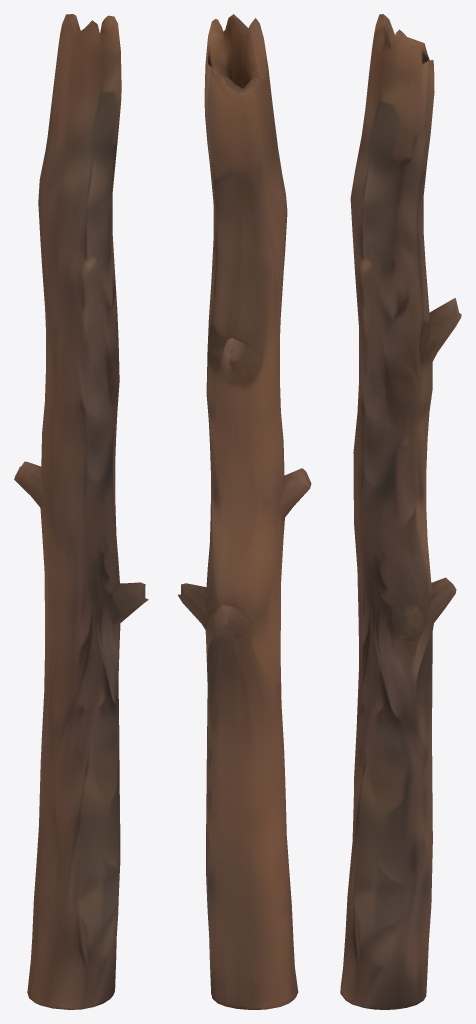
Rendered from base_basic_shaded.fbx.
3 renders of one model, left to right at view 1: azimuth 30°, elevation 25°; view 2: azimuth 210°, elevation 25°; view 3: azimuth 330°, elevation 25°, orthographic.
Visible parts, largest first — view 1: model; view 2: model; view 3: model.
Boxes of the visible parts, box(x1,y1,x2,y2) form: model: box(14, 14, 148, 1009); model: box(178, 14, 311, 1009); model: box(340, 14, 461, 1009).
Bounding box in the file's own units: 18.83 × 181 × 17.38.
